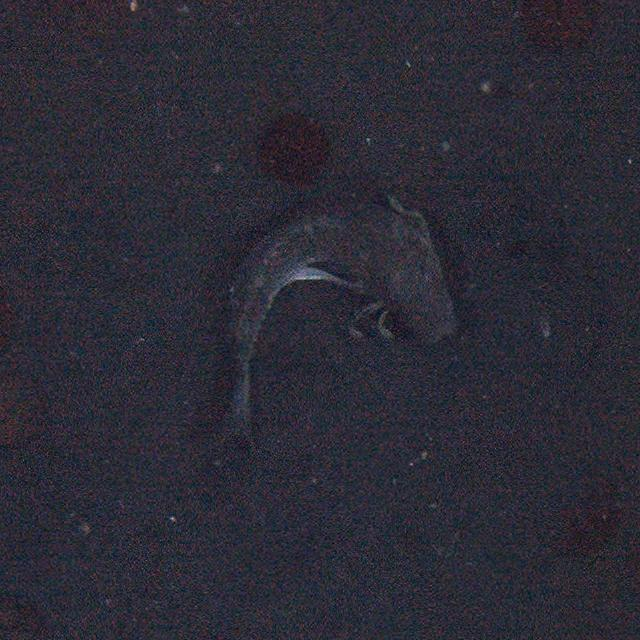roundfish: (202, 191, 460, 452)
